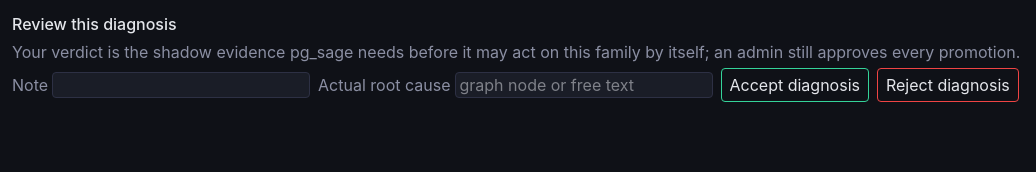
Test case: InvestigationReview › rejects with a note and the actual root cause
Type " wrong holder " into the field labelled "Note" at (181, 85), box [52, 72, 310, 98]
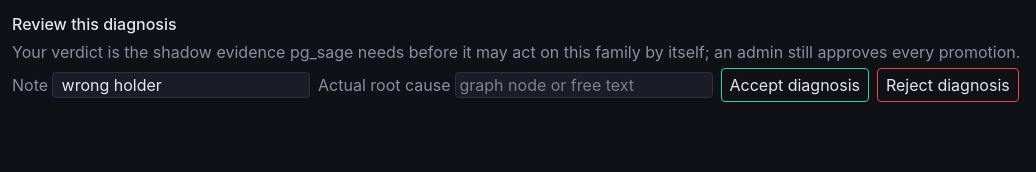
Type "connection_leak" into the field labelled "Actual root cause" at (584, 85), box [454, 72, 712, 98]
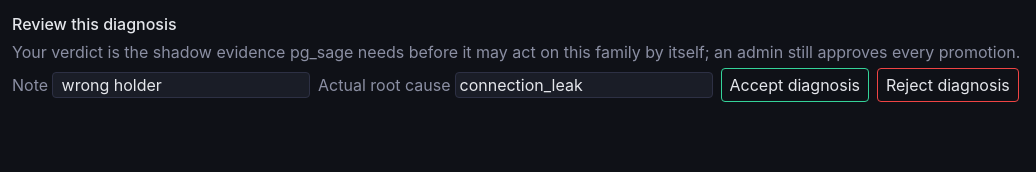
Click the button "Reject diagnosis" at (948, 85), box [877, 68, 1019, 102]
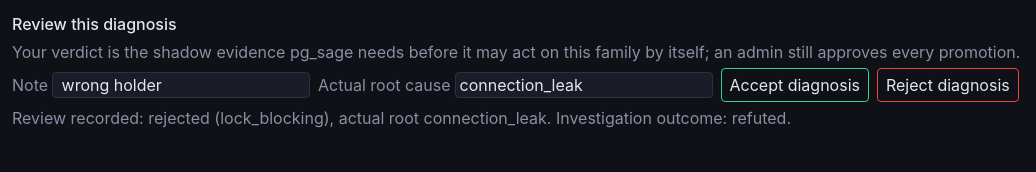
Expected: the text with test id "investigation-review-status" shows "rejected", [148, 108, 210, 128]
Expected: the text with test id "investigation-review-status" shows "connection_leak", [330, 108, 547, 128]
